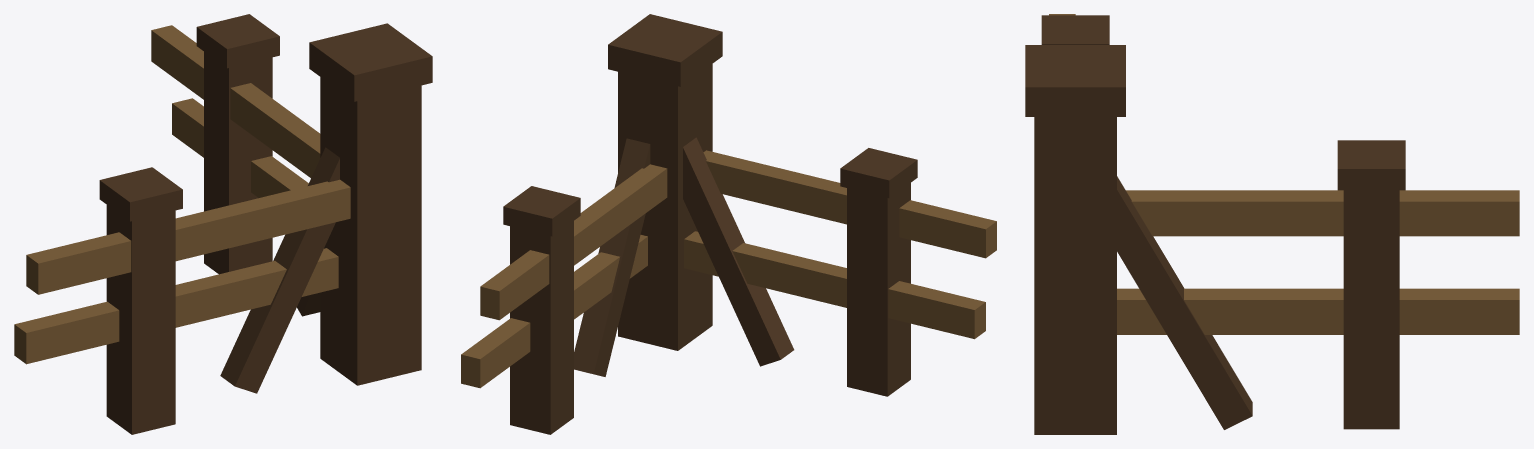
File: fence_corner.glb
3 views of the same model, side by side, from view 1: azimuth 30°, elevation 25°; view 2: azimuth 150°, elevation 25°; view 3: azimuth 270°, elevation 25° (orthographic). The views are drawn at different scales.
Parts seen in each view (by area): view 1: Cube, Cube.002, Cube.008, Cube.006, Cube.004, Cube.010, Cube.009, Cube.001, Cube.003, Cube.005, Cube.007, Cube.011; view 2: Cube, Cube.002, Cube.004, Cube.008, Cube.006, Cube.010, Cube.009, Cube.001, Cube.007, Cube.011, Cube.003, Cube.005; view 3: Cube, Cube.009, Cube.007, Cube.004, Cube.011, Cube.001, Cube.005, Cube.003.
Boxes of the visible parts, <box> form: Cube: <box>320,77,421,385</box>; Cube.002: <box>106,205,175,434</box>; Cube.008: <box>26,179,350,294</box>; Cube.006: <box>14,248,338,364</box>; Cube.004: <box>204,52,272,274</box>; Cube.010: <box>220,147,339,393</box>; Cube.009: <box>151,25,320,177</box>; Cube.001: <box>309,23,432,101</box>; Cube.003: <box>99,167,182,221</box>; Cube.005: <box>196,14,279,68</box>; Cube.007: <box>172,98,308,197</box>; Cube.011: <box>297,292,320,316</box>; Cube: <box>618,64,712,350</box>; Cube.002: <box>847,183,910,396</box>; Cube.004: <box>510,221,573,434</box>; Cube.008: <box>703,150,996,258</box>; Cube.006: <box>684,231,985,339</box>; Cube.010: <box>683,137,794,366</box>; Cube.009: <box>480,164,667,320</box>; Cube.001: <box>608,14,722,86</box>; Cube.007: <box>461,235,647,388</box>; Cube.011: <box>574,138,650,376</box>; Cube.003: <box>840,148,917,198</box>; Cube.005: <box>503,186,580,236</box>; Cube: <box>1034,117,1116,434</box>; Cube.009: <box>1126,190,1519,236</box>; Cube.007: <box>1117,288,1519,334</box>; Cube.004: <box>1343,190,1399,429</box>; Cube.011: <box>1117,176,1252,429</box>; Cube.001: <box>1025,45,1125,116</box>; Cube.005: <box>1337,140,1405,190</box>; Cube.003: <box>1041,15,1109,44</box>.
Bounding box in the file's own units: 33.4 × 26.22 × 33.4.
